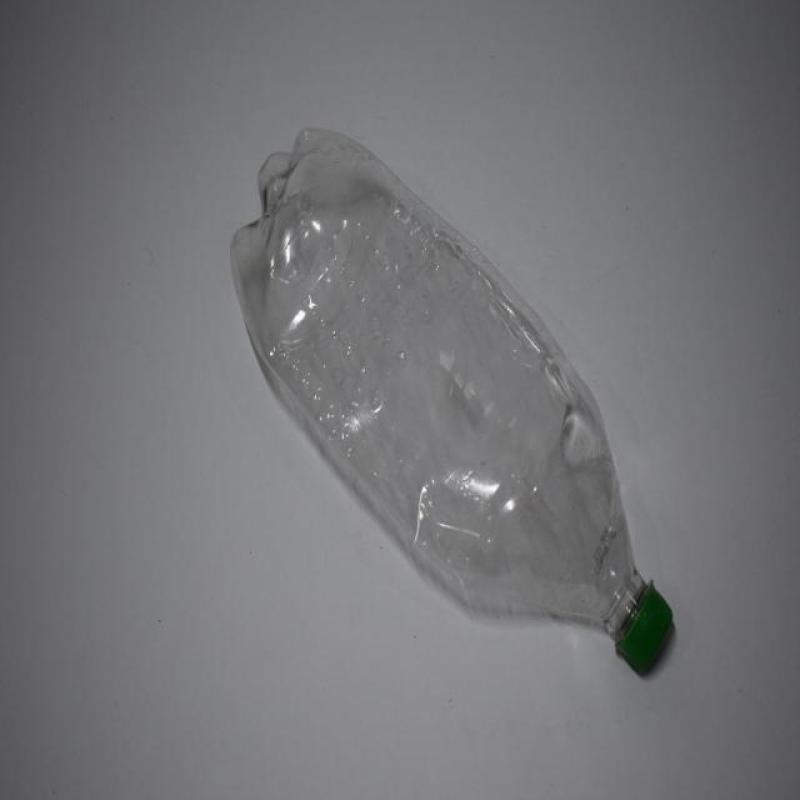botella: (225, 127, 675, 679)
